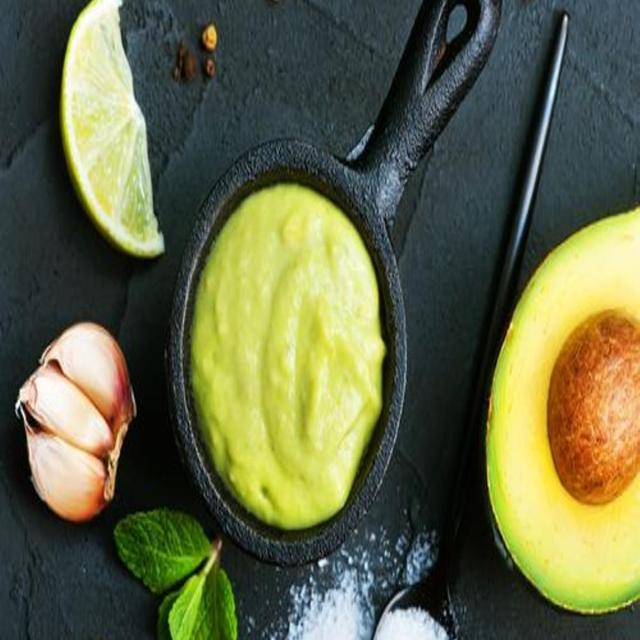aguacate: (185, 181, 389, 531), (481, 191, 640, 624)
